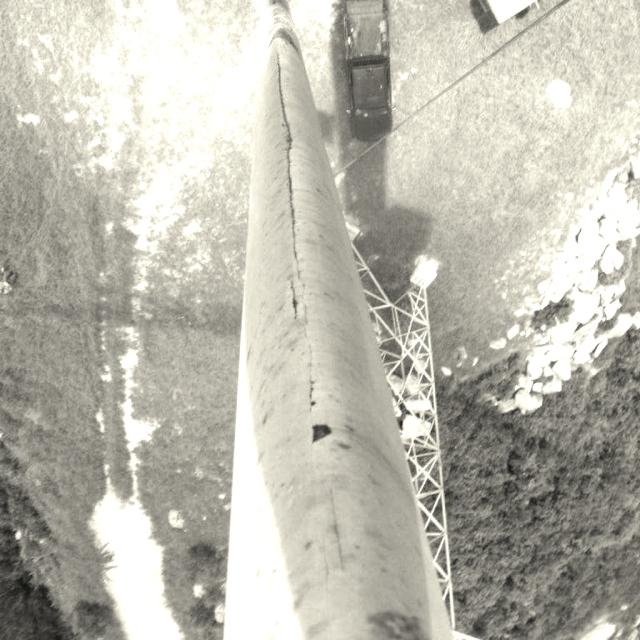crack: (273, 54, 304, 274), (285, 282, 301, 322)
surface_peeling: (307, 419, 335, 446)
